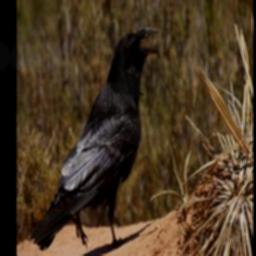Crow: (29, 27, 158, 250)
